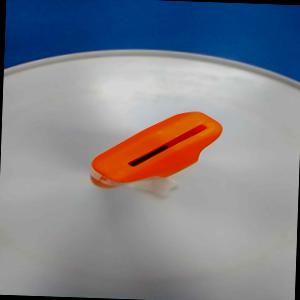estilete: (86, 108, 223, 194)
